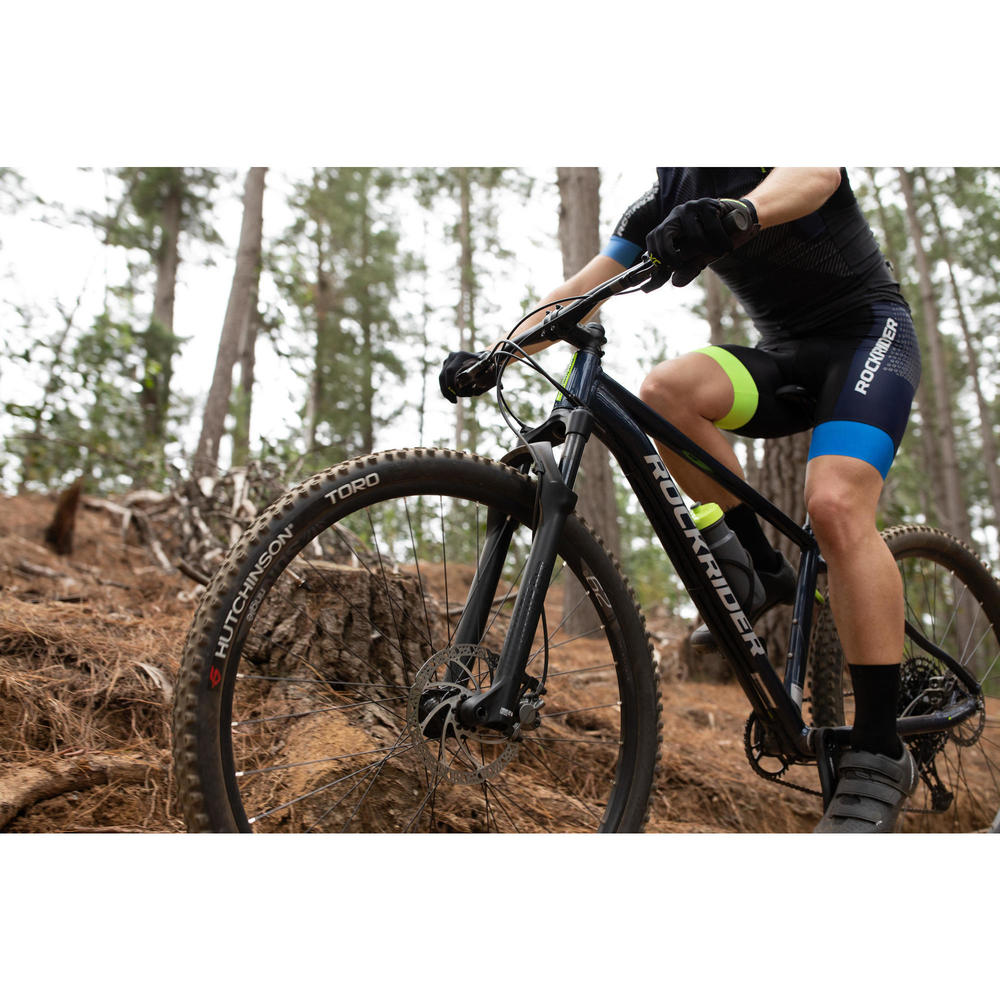MountainBike: (184, 217, 1000, 836)
